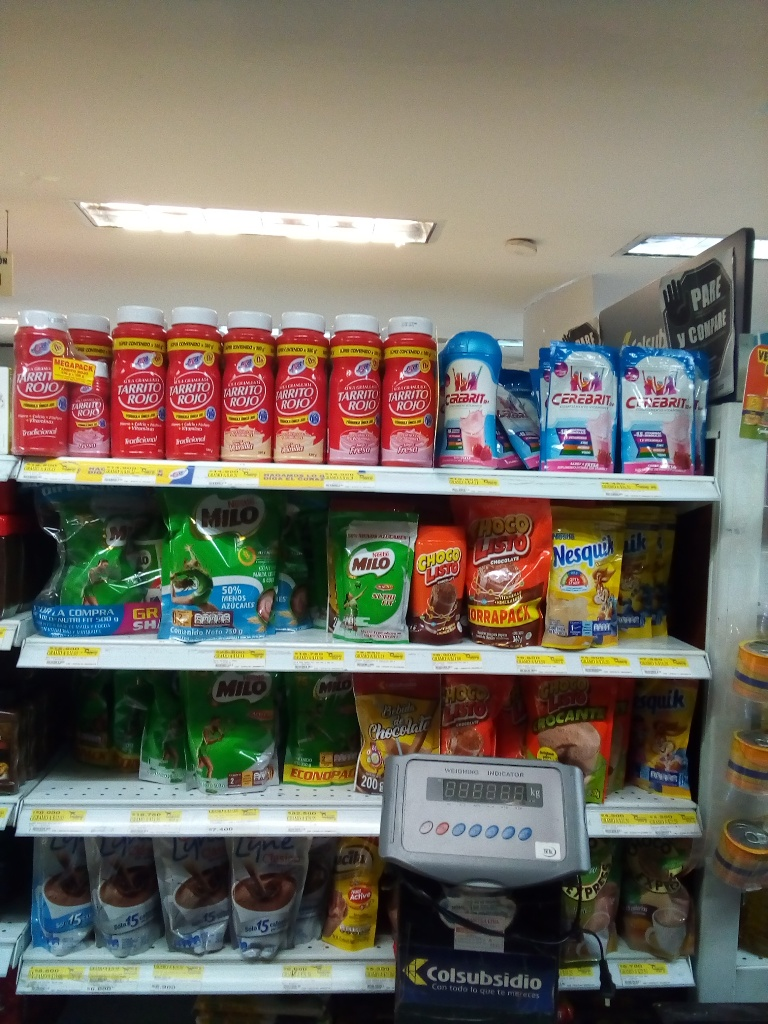COL0170102DYP25000: (523, 682, 617, 805)
COL0170103DYP20000: (443, 672, 513, 759)
COL0170103DYP36000: (453, 497, 550, 648)
COL0170103TRR30000: (408, 519, 469, 645)
COL0170203DYP50000: (271, 671, 365, 791)
COL0170205DYP20000: (316, 505, 420, 647)
COL0170205DYP50000: (46, 498, 148, 611)
COL0170303DYP20000: (626, 682, 695, 806)
COL0170306DYP20000: (552, 506, 623, 650)
